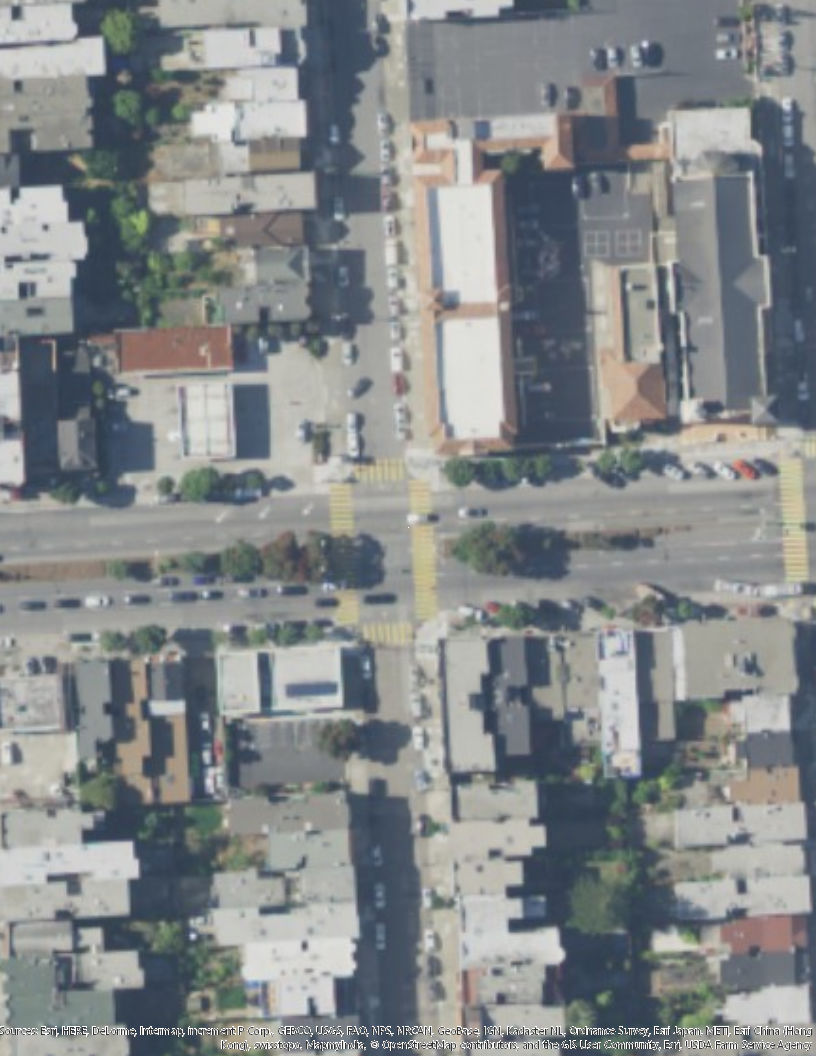zebracross: (776, 453, 810, 584), (407, 482, 437, 617), (354, 456, 409, 484), (330, 482, 358, 537), (363, 622, 413, 645), (331, 591, 363, 624)
